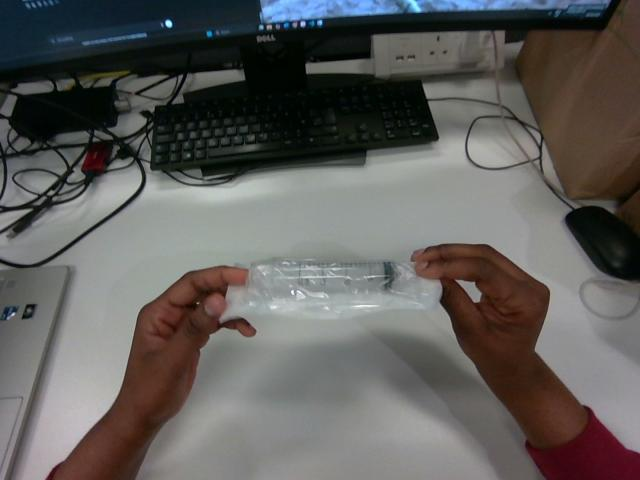syringe: (221, 258, 441, 320)
